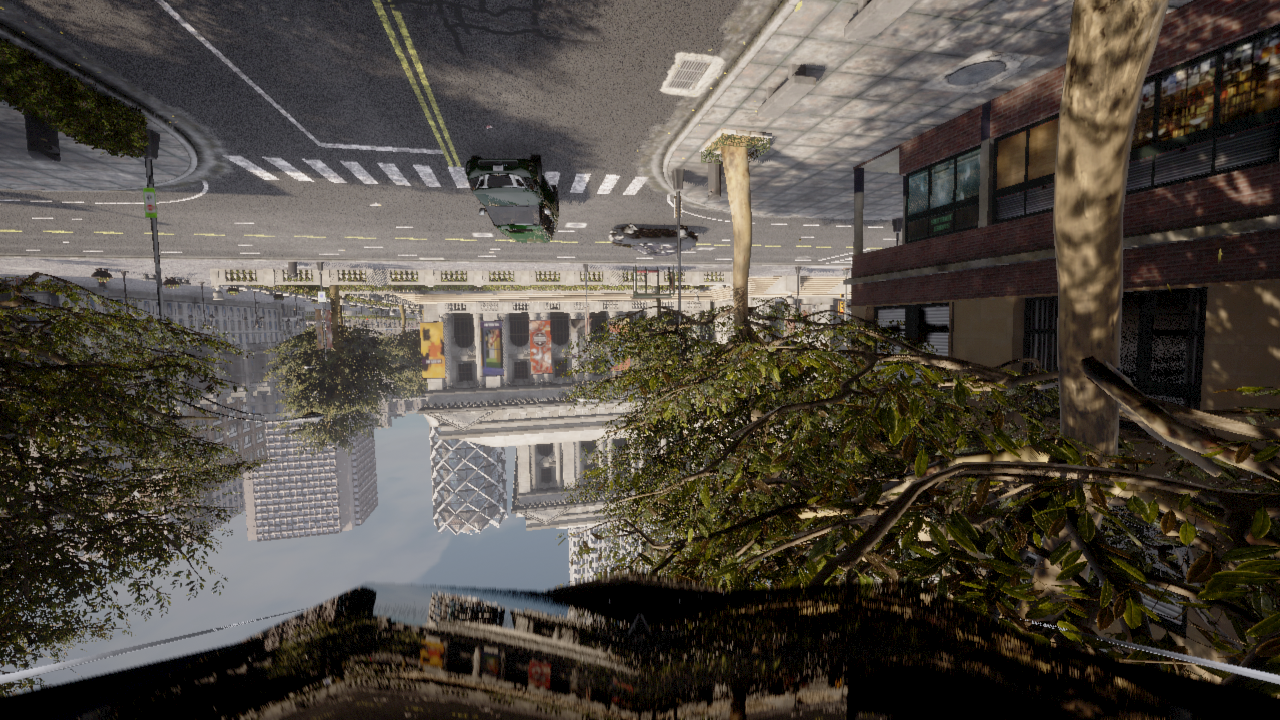cyclist: (0, 569, 1279, 719), (466, 154, 558, 242), (610, 223, 697, 255)
